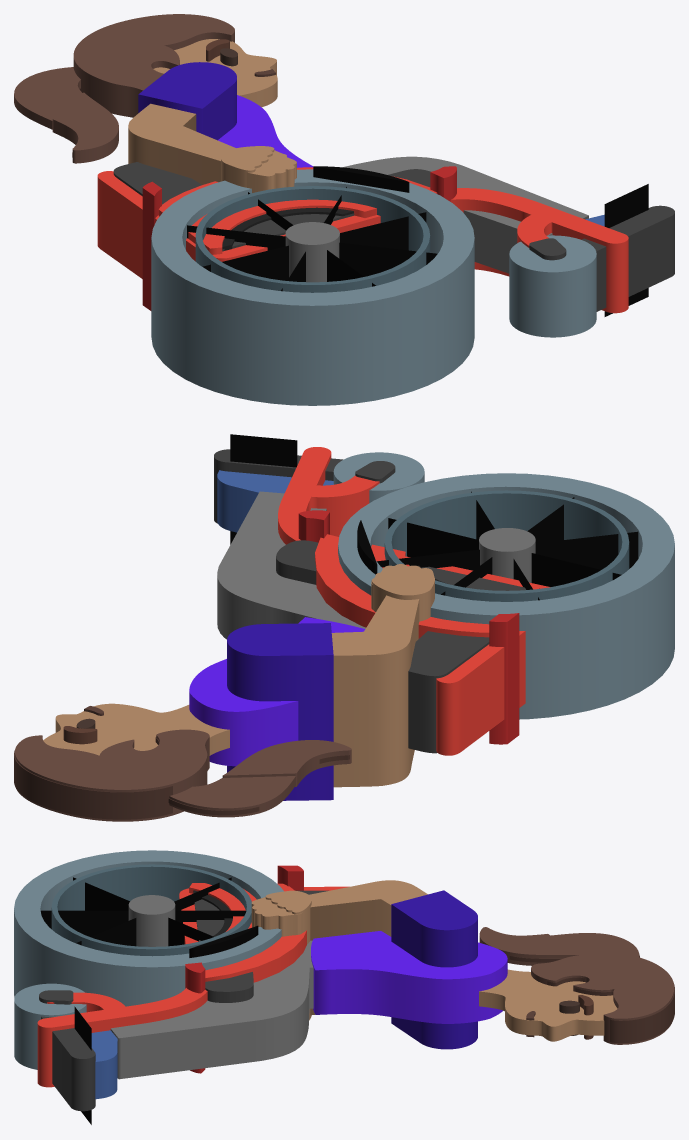
The model's file is emoji_u1f469_1f3fd_200d_1f9bd_200d_27a1.glb.
The picture shows the model from 3 angles, top to bottom: view 1: azimuth 30°, elevation 25°; view 2: azimuth 150°, elevation 25°; view 3: azimuth 270°, elevation 25°; orthographic projection. The views are drawn at different scales.
Visible parts, largest first — view 1: emoji_u1f469_1f3fd_200d_1f9bd_200d_27a1; view 2: emoji_u1f469_1f3fd_200d_1f9bd_200d_27a1; view 3: emoji_u1f469_1f3fd_200d_1f9bd_200d_27a1.
Boxes of the visible parts, x1,y1,x2,y2 form: emoji_u1f469_1f3fd_200d_1f9bd_200d_27a1: (14,14,674,405); emoji_u1f469_1f3fd_200d_1f9bd_200d_27a1: (14,434,674,821); emoji_u1f469_1f3fd_200d_1f9bd_200d_27a1: (14,850,674,1124).
Bounding box in the file's own units: 0.0221 × 0.0064 × 0.0322.
